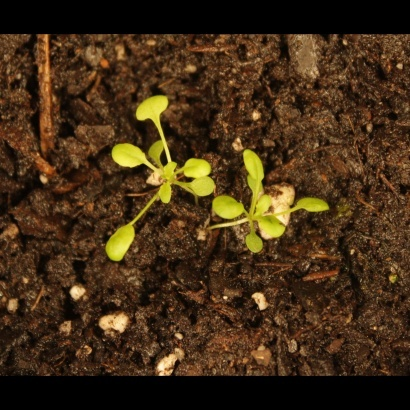leaf: (129, 93, 177, 124), (103, 221, 137, 264), (111, 138, 149, 170), (210, 192, 248, 224), (241, 146, 270, 185), (179, 153, 215, 183), (289, 194, 334, 218), (257, 214, 288, 244), (241, 229, 267, 259), (189, 176, 217, 203), (143, 137, 170, 164), (157, 182, 181, 205), (157, 161, 180, 184), (244, 175, 267, 198), (255, 195, 278, 218)
